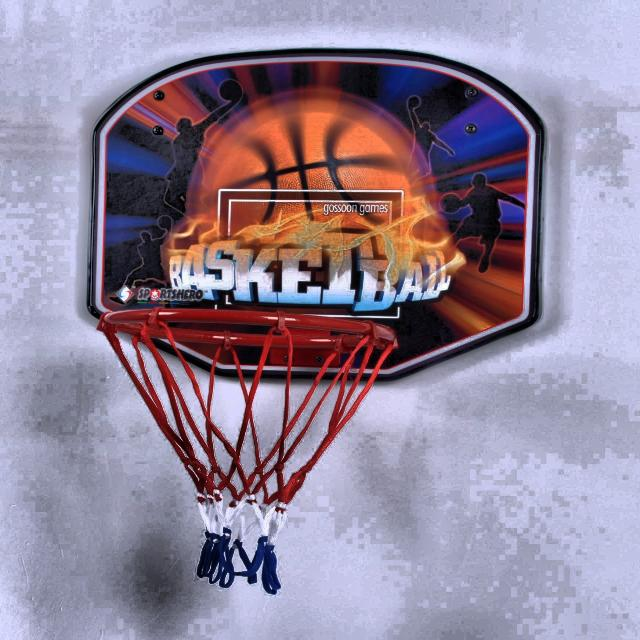rim: (97, 308, 397, 595)
